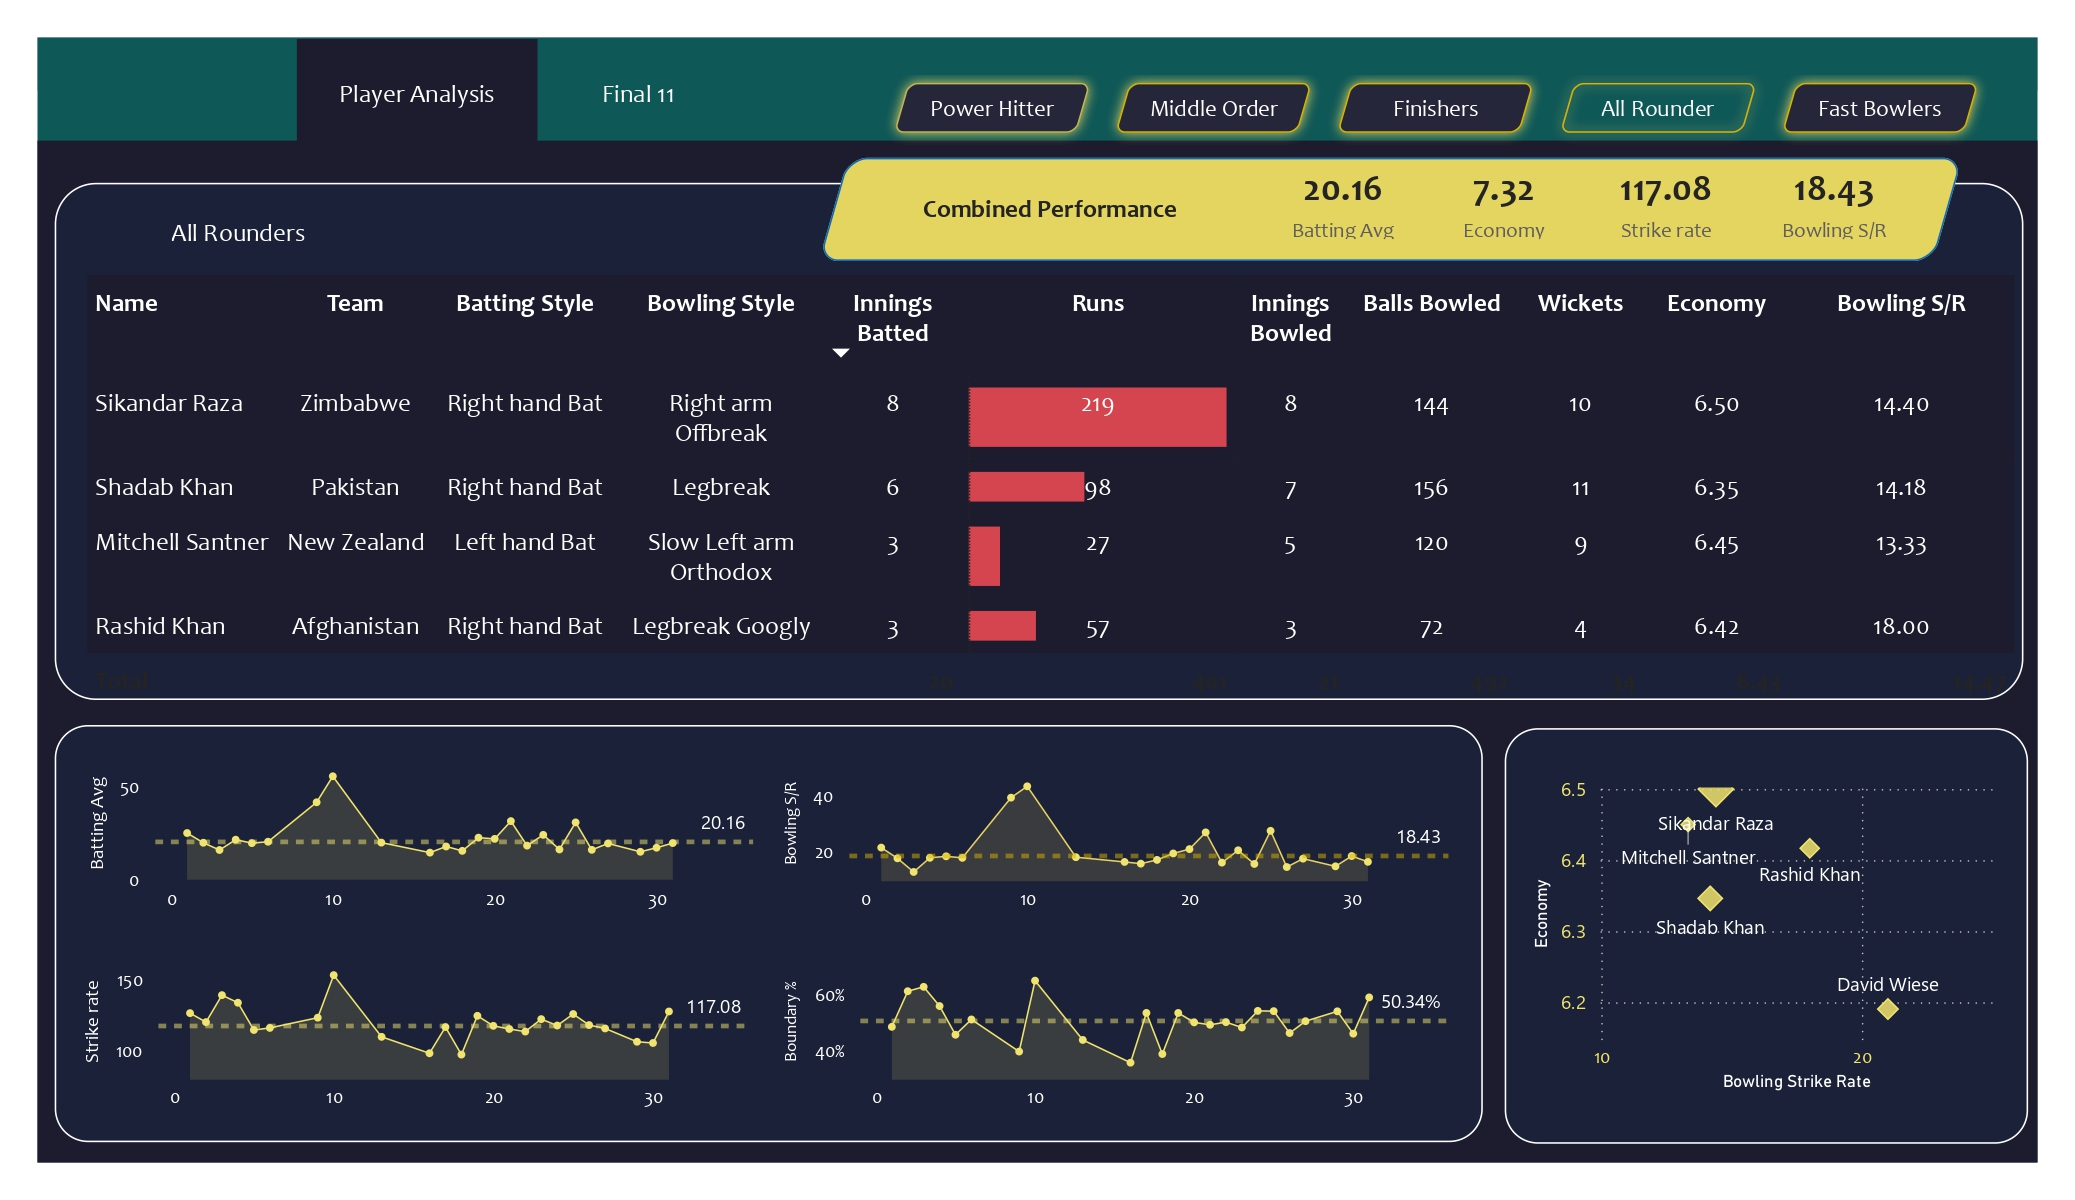

The dashboard page shown, as its layout file describes it:
{"tool":"powerbi","page":{"name":"All Rounder","canvas":[1280,720],"ordinal":3},"visuals":[{"type":"shape","box":[0,66,1280,654],"z":0},{"type":"shape","box":[939,441.9,335,266.6],"z":1000},{"type":"shape","box":[11,93.3,1259.7,330.7],"z":2000},{"type":"tableEx","fields":{"Values":["dim_players.Name","dim_players.Team","dim_players.Batting Style","dim_players.bowlingStyle","Key_measures.Total Innings Batted","Key_measures.Total_Runs","Key_measures.Total Innings Bowled","Key_measures.Balls Bowled","Key_measures.wickets","Key_measures.Economy","Key_measures.Bowling Strike Rate"]},"box":[25.7,147,1253.2,288.3],"z":3000},{"type":"scatterChart","fields":{"Category":["dim_players.Name"],"X":["Key_measures.Bowling Strike Rate"],"Y":["Key_measures.Economy"],"Size":["Key_measures.Total_Runs"]},"box":[952,466.7,311.2,212.7],"z":4000},{"type":"shape","box":[500.5,76.8,731.4,65.9],"z":5000},{"type":"card","fields":{"Values":["Key_measures.Bowling Strike Rate"]},"box":[1089.1,74.4,122.1,60],"z":6000},{"type":"card","fields":{"Values":["Key_measures.Economy"]},"box":[882.4,74.4,112.5,60],"z":7000},{"type":"card","fields":{"Values":["Key_measures.Strike rate"]},"box":[988.5,74.4,107,60],"z":8000},{"type":"card","fields":{"Values":["Key_measures.Batting Avg"]},"box":[781.8,74.4,107,60],"z":9000},{"type":"shape","box":[534.8,91.9,226.4,34.3],"z":10000},{"type":"shape","box":[540.3,20.6,142,48],"z":11000},{"type":"shape","box":[682.3,20.6,142,48],"z":12000},{"type":"shape","box":[824.3,20.6,142,48],"z":13000},{"type":"shape","box":[966.4,20.6,142,48],"z":14000},{"type":"shape","box":[1108.1,20.6,142,48],"z":15000},{"type":"shape","box":[11,440.5,913.9,266.2],"z":16000},{"type":"areaChart","fields":{"Y":["Key_measures.Batting Avg"],"Category":["dim_match_summary.matchDate.Variation.Date Hierarchy.Day"]},"box":[27.7,452.7,435,115],"z":17000},{"type":"areaChart","fields":{"Category":["dim_match_summary.matchDate.Variation.Date Hierarchy.Day"],"Y":["Key_measures.Bowling Strike Rate"]},"box":[473.2,453,435,115.3],"z":18000},{"type":"areaChart","fields":{"Category":["dim_match_summary.matchDate.Variation.Date Hierarchy.Day"],"Y":["Key_measures.Strike rate"]},"box":[25.2,580.3,435,115],"z":19000},{"type":"areaChart","fields":{"Y":["Key_measures.Boundary %"],"Category":["dim_match_summary.matchDate.Variation.Date Hierarchy.Day"]},"box":[473.1,580.3,435,115],"z":20000},{"type":"shape","box":[37,103.3,182.5,42.5],"z":21000},{"type":"actionButton","box":[166,1.4,153.7,67.2],"z":22000},{"type":"actionButton","box":[319.7,1.4,129,67.2],"z":23000}]}

Visuals, with their boxes on the page's 1280x720 design canvas (x1, y1, x2, y2). These are canvas units, not pixel positions in the 2075x1200 screenshot, which may show the page scaled, cropped or inside an application window:
shape: <region>0, 66, 1280, 720</region>
shape: <region>939, 442, 1274, 708</region>
shape: <region>11, 93, 1271, 424</region>
tableEx - dim_players.Name x dim_players.Team: <region>26, 147, 1279, 435</region>
scatterChart - dim_players.Name x Key_measures.Bowling Strike Rate: <region>952, 467, 1263, 679</region>
shape: <region>500, 77, 1232, 143</region>
card - Key_measures.Bowling Strike Rate: <region>1089, 74, 1211, 134</region>
card - Key_measures.Economy: <region>882, 74, 995, 134</region>
card - Key_measures.Strike rate: <region>988, 74, 1096, 134</region>
card - Key_measures.Batting Avg: <region>782, 74, 889, 134</region>
shape: <region>535, 92, 761, 126</region>
shape: <region>540, 21, 682, 69</region>
shape: <region>682, 21, 824, 69</region>
shape: <region>824, 21, 966, 69</region>
shape: <region>966, 21, 1108, 69</region>
shape: <region>1108, 21, 1250, 69</region>
shape: <region>11, 440, 925, 707</region>
areaChart - Key_measures.Batting Avg x dim_match_summary.matchDate.Variation.Date Hierarchy.Day: <region>28, 453, 463, 568</region>
areaChart - dim_match_summary.matchDate.Variation.Date Hierarchy.Day x Key_measures.Bowling Strike Rate: <region>473, 453, 908, 568</region>
areaChart - dim_match_summary.matchDate.Variation.Date Hierarchy.Day x Key_measures.Strike rate: <region>25, 580, 460, 695</region>
areaChart - Key_measures.Boundary % x dim_match_summary.matchDate.Variation.Date Hierarchy.Day: <region>473, 580, 908, 695</region>
shape: <region>37, 103, 220, 146</region>
actionButton: <region>166, 1, 320, 69</region>
actionButton: <region>320, 1, 449, 69</region>
